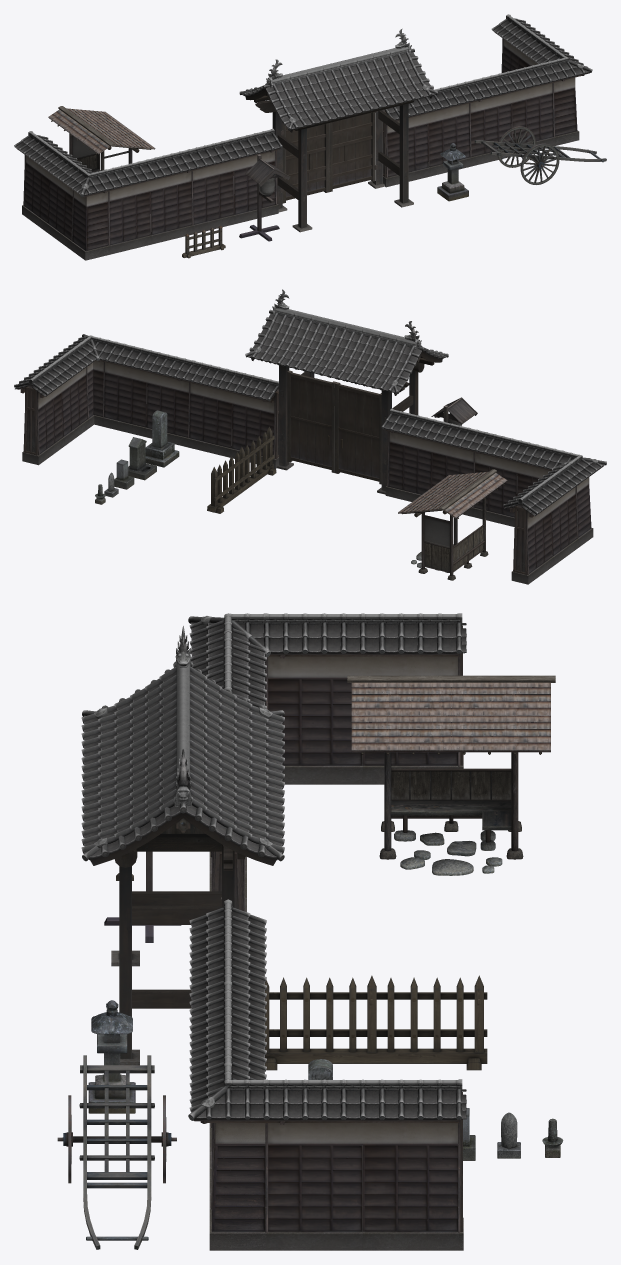
The model's file is Japan_Temple_gate_a.fbx.
The picture shows the model from 3 angles, top to bottom: view 1: azimuth 30°, elevation 25°; view 2: azimuth 150°, elevation 25°; view 3: azimuth 270°, elevation 25°; orthographic projection. The views are drawn at different scales.
Visible parts, largest first — view 1: tile_kawara_b, wall_itabei_a_CP1, wall_itabei_a_CP3, wall_itabei_a_CP, gate_wood_a, wall_itabei_a, tile_kawara_a, tile_kawara_a_CP, bench_azumaya_a, door_wood_big_a_r, wall_itabei_a_CP4, carrier_daisha_a (+16 smaller); view 2: tile_kawara_b, bench_azumaya_a, wall_itabei_a_CP, wall_itabei_a, tile_kawara_a_CP, tile_kawara_a, door_wood_big_a_r, door_wood_big_a_l, wall_itabei_a_CP3, wall_itabei_a_CP2, wall_itabei_a_CP4, fence_saku_b (+17 smaller); view 3: tile_kawara_b, bench_azumaya_a, wall_itabei_a_CP2, tile_kawara_a_CP, wall_itabei_a_CP4, fence_saku_b, tile_kawara_a, gate_wood_a, wall_itabei_a_corner, carrier_daisha_a, mdl_tile_kawara_a_corner, tile_kawara_top_a_CP1 (+9 smaller).
Part boxes in pixels (left/top/right/bottom): tile_kawara_b: left=241, top=52, right=435, bottom=129; wall_itabei_a_CP1: left=108, top=168, right=197, bottom=254; wall_itabei_a_CP3: left=191, top=148, right=280, bottom=233; wall_itabei_a_CP: left=470, top=80, right=558, bottom=166; gate_wood_a: left=255, top=99, right=413, bottom=232; wall_itabei_a: left=387, top=100, right=474, bottom=186; tile_kawara_a: left=16, top=133, right=282, bottom=187; tile_kawara_a_CP: left=384, top=20, right=573, bottom=119; bench_azumaya_a: left=48, top=106, right=155, bottom=172; door_wood_big_a_r: left=329, top=111, right=377, bottom=191; wall_itabei_a_CP4: left=16, top=148, right=72, bottom=249; carrier_daisha_a: left=474, top=126, right=606, bottom=184; tile_kawara_b: left=248, top=313, right=446, bottom=392; bench_azumaya_a: left=398, top=469, right=507, bottom=580; wall_itabei_a_CP: left=100, top=359, right=188, bottom=447; wall_itabei_a: left=184, top=380, right=276, bottom=463; tile_kawara_a_CP: left=19, top=345, right=278, bottom=400; tile_kawara_a: left=381, top=413, right=587, bottom=513; door_wood_big_a_r: left=287, top=370, right=336, bottom=472; door_wood_big_a_l: left=335, top=382, right=381, bottom=484; wall_itabei_a_CP3: left=384, top=428, right=474, bottom=516; wall_itabei_a_CP2: left=20, top=360, right=95, bottom=463; wall_itabei_a_CP4: left=509, top=479, right=585, bottom=583; fence_saku_b: left=207, top=426, right=276, bottom=513; tile_kawara_b: left=81, top=666, right=284, bottom=858; bench_azumaya_a: left=347, top=675, right=555, bottom=875; wall_itabei_a_CP2: left=266, top=1119, right=460, bottom=1250; tile_kawara_a_CP: left=189, top=907, right=456, bottom=1119; wall_itabei_a_CP4: left=268, top=653, right=460, bottom=784; fence_saku_b: left=265, top=975, right=487, bottom=1070; tile_kawara_a: left=190, top=622, right=456, bottom=708; gate_wood_a: left=111, top=834, right=234, bottom=1065; wall_itabei_a_corner: left=194, top=1119, right=267, bottom=1250; carrier_daisha_a: left=57, top=1055, right=176, bottom=1249; mdl_tile_kawara_a_corner: left=189, top=1070, right=263, bottom=1119; tile_kawara_top_a_CP1: left=263, top=1079, right=456, bottom=1090.
Size of the model in its own units: 1844 by 556 by 788.
